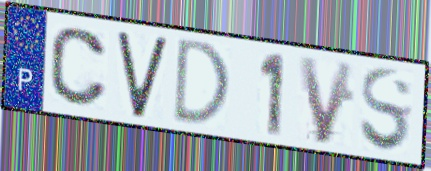1: (257, 50, 287, 140)
C: (48, 24, 111, 110)
D: (170, 35, 233, 127)
S: (358, 66, 415, 157)
V: (295, 54, 358, 147), (114, 30, 170, 120)
